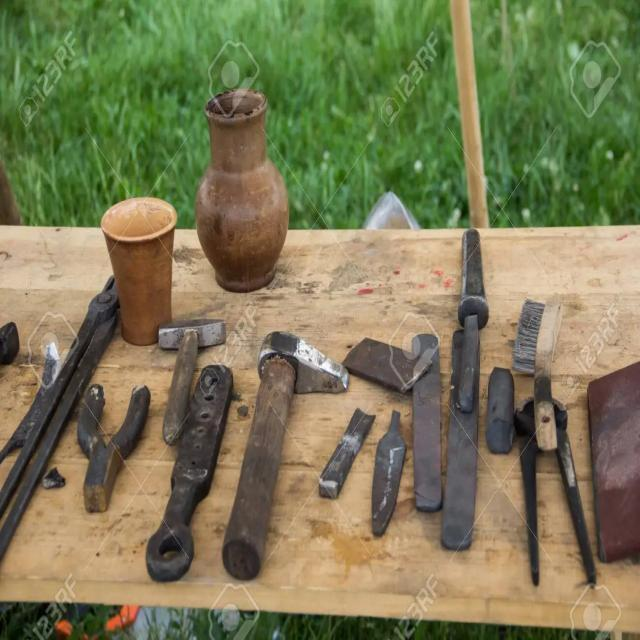hammer: (218, 306, 354, 586), (154, 291, 232, 448)
